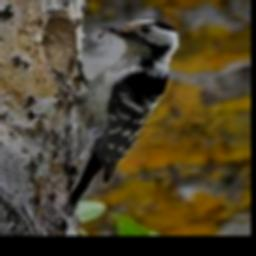Woodpecker: (68, 19, 180, 210)
